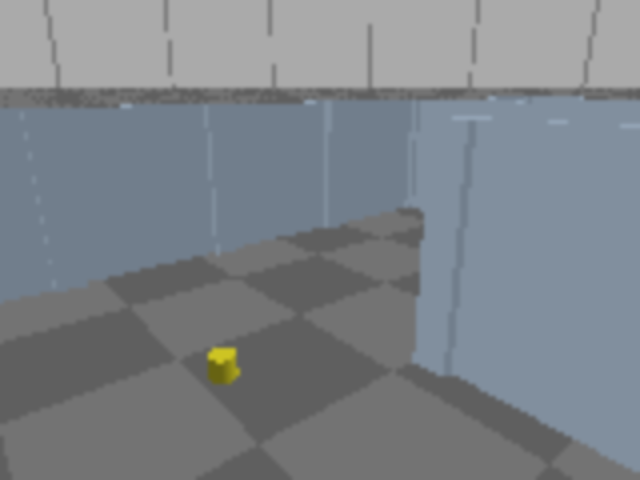puck: (208, 348, 237, 383)
